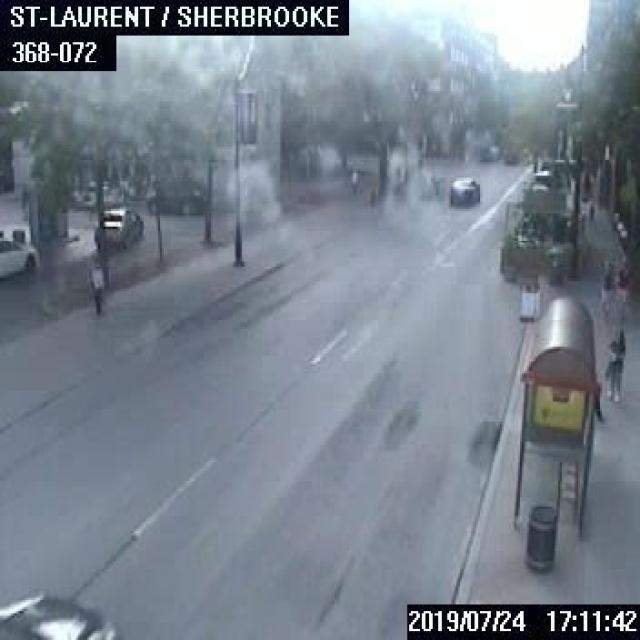construction: (368, 180, 377, 204)
pedestrian: (604, 329, 624, 400), (612, 255, 629, 316), (89, 258, 102, 316), (598, 256, 610, 313), (592, 372, 604, 424), (348, 167, 357, 195), (587, 197, 594, 228)
vehicle: (0, 591, 116, 637), (92, 206, 140, 247), (0, 235, 38, 278), (144, 190, 206, 215), (76, 178, 121, 208), (447, 175, 478, 202)
